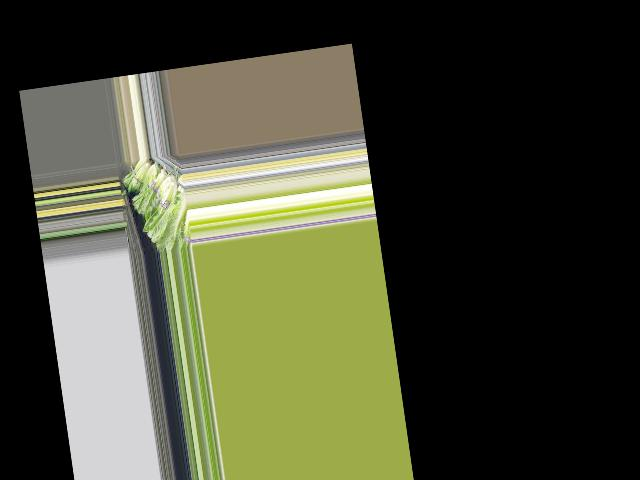lettuce: (145, 193, 190, 251)
